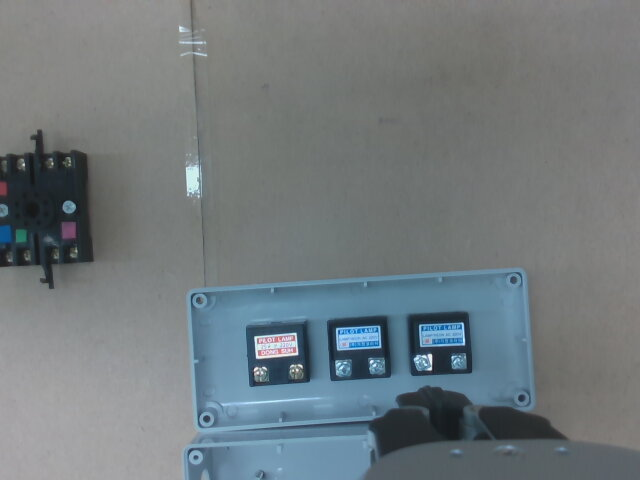L1(1): (253, 367, 269, 382)
L1(2): (288, 365, 303, 380)
L2(1): (334, 360, 352, 377)
L2(2): (367, 358, 385, 375)
L3(1): (415, 354, 432, 371)
L3(2): (451, 354, 467, 370)
